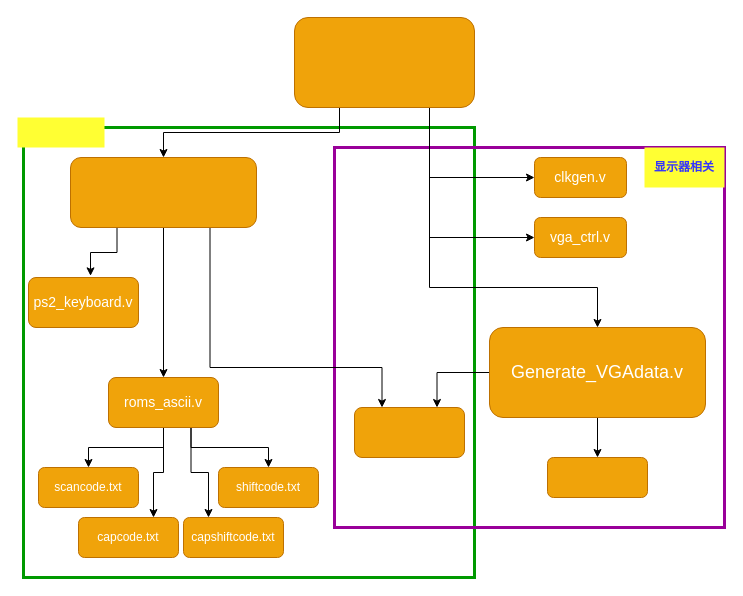
Image size: 743x596. Some labels were removed from this diagram. Each missing label, with the centre of its shape:
"exp11_3.v" goes at point 384,62.
"out_kbd.v" goes at point 163,192.
"seg_7_out.v" goes at point 409,432.
"vga_font.txt" goes at point 597,477.
"键盘相关" goes at point 60,132.
